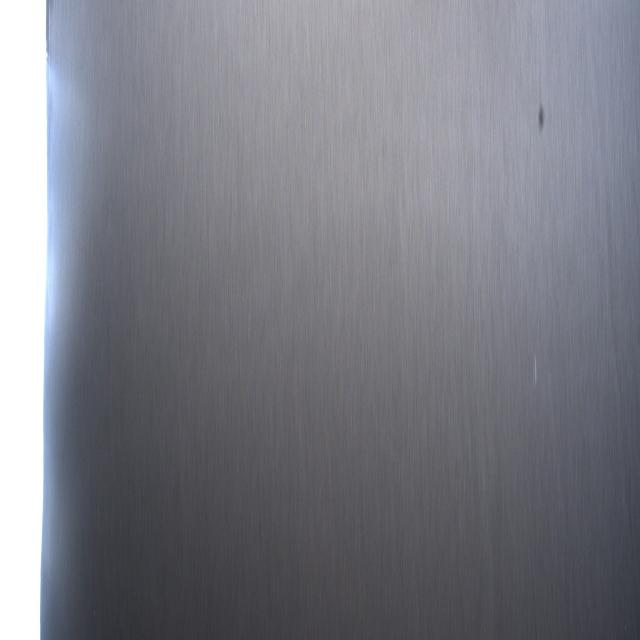crease: (586, 20, 634, 556)
whiteDefect: (532, 349, 538, 390)
